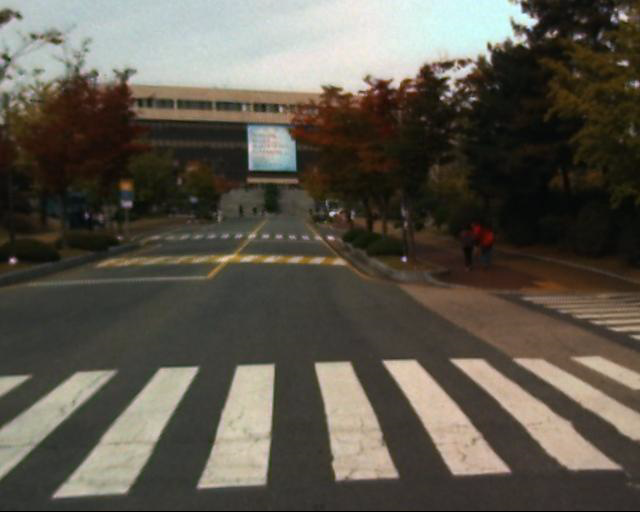person: (69, 200, 117, 250), (456, 224, 478, 278), (481, 223, 502, 276)
